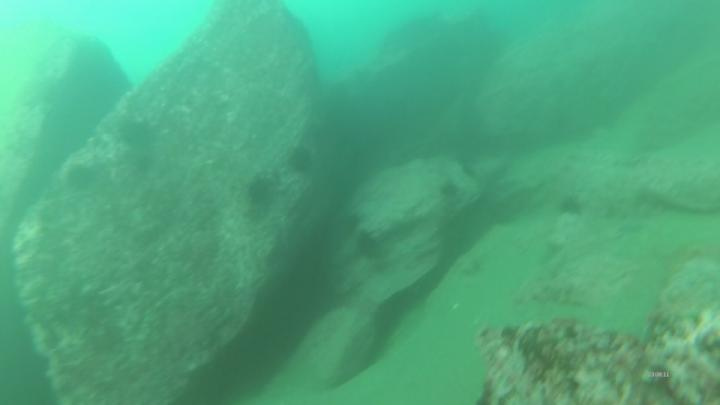echinus: (242, 172, 279, 208), (286, 145, 315, 177), (353, 228, 381, 258)
